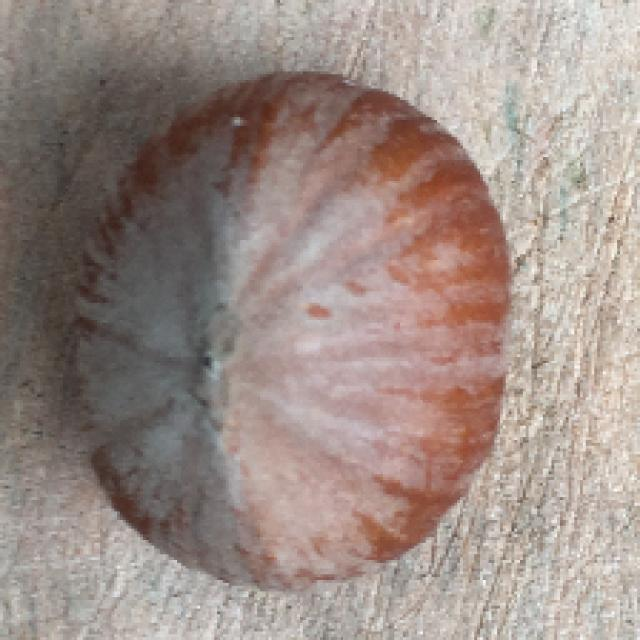qualityHazelnut: (55, 62, 519, 591)
